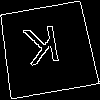K: (22, 24, 64, 76)
